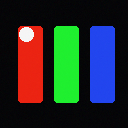2 circle: (19, 27, 33, 41)
